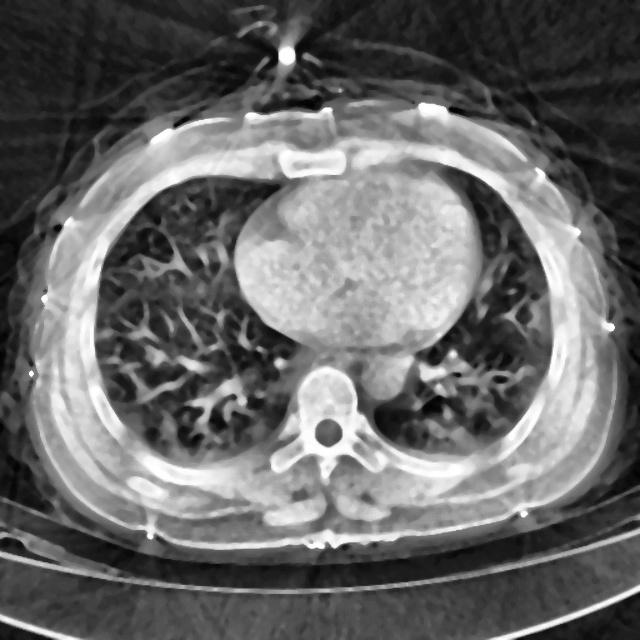covid: (8, 93, 632, 564)
